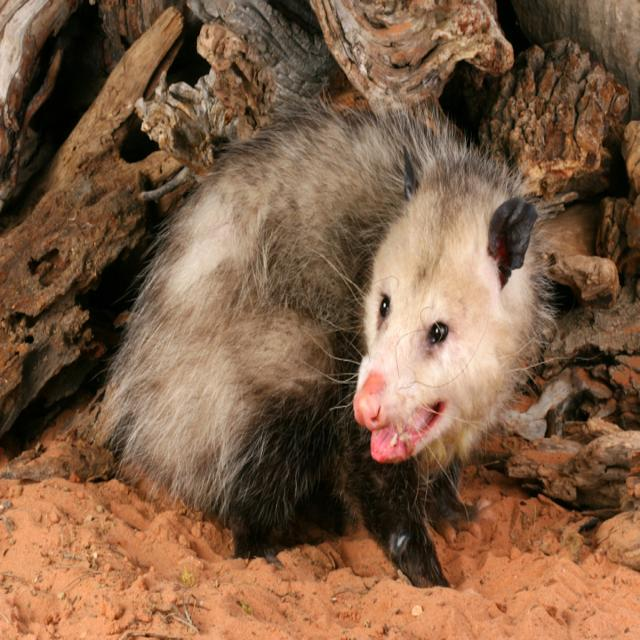Possum: (111, 104, 539, 590)
